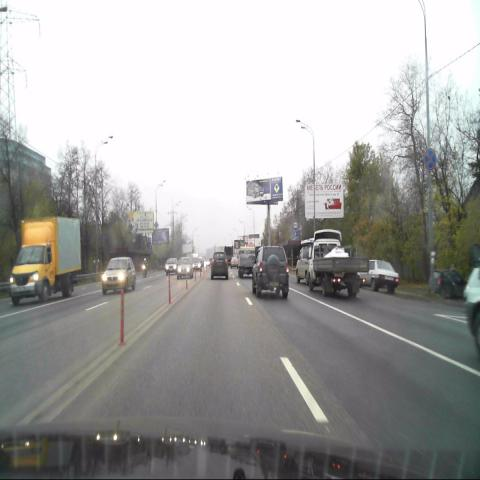3_27: (424, 147, 436, 171)
